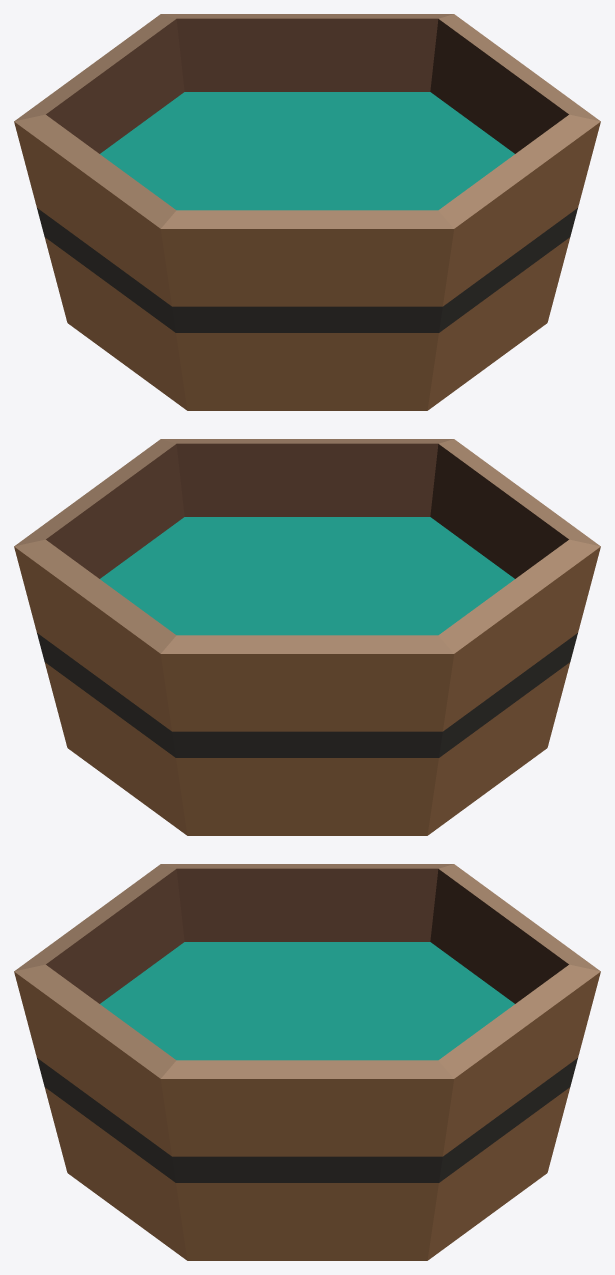
Rendered from TB_D_Prop_BucketBig_Water_B.FBX.
3 renders of one model, top to bottom at view 1: azimuth 30°, elevation 25°; view 2: azimuth 150°, elevation 25°; view 3: azimuth 270°, elevation 25°, orthographic.
Visible parts, largest first — view 1: TB_D_Prop_BucketBig_Water_B; view 2: TB_D_Prop_BucketBig_Water_B; view 3: TB_D_Prop_BucketBig_Water_B.
Boxes of the visible parts, left/top/right/bottom form: TB_D_Prop_BucketBig_Water_B: left=14, top=14, right=600, bottom=410; TB_D_Prop_BucketBig_Water_B: left=14, top=439, right=600, bottom=835; TB_D_Prop_BucketBig_Water_B: left=14, top=864, right=600, bottom=1260.
Bounding box in the file's own units: 0.9353 × 0.4233 × 1.08.
